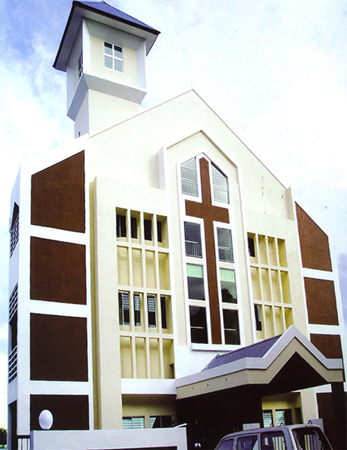Church: (3, 2, 337, 437)
